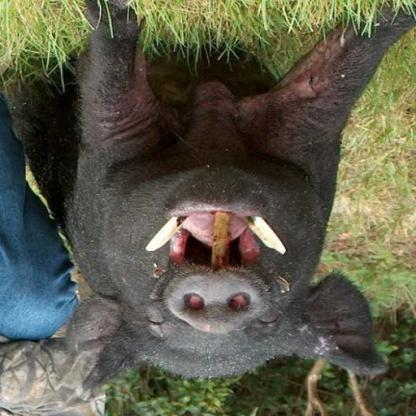boar: (40, 1, 415, 407)
